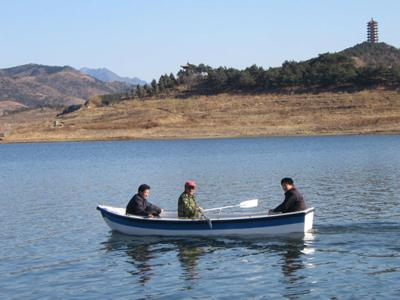person: (178, 182, 205, 219)
